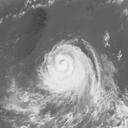cyclone: (39, 41, 94, 98)
